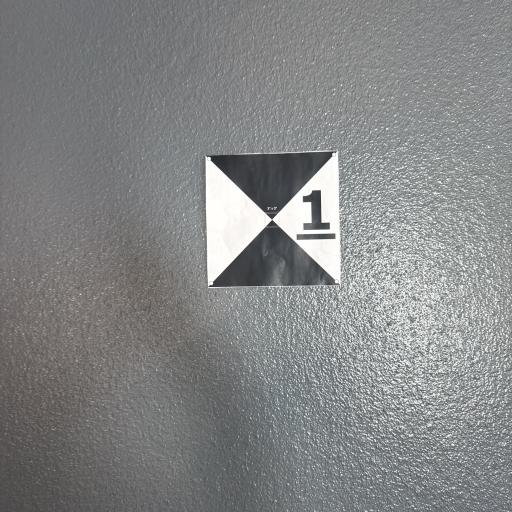target1: (206, 150, 343, 293)
